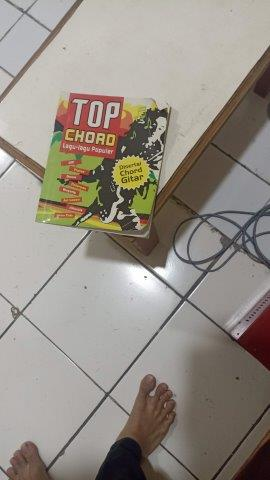kertas: (34, 90, 169, 244)
